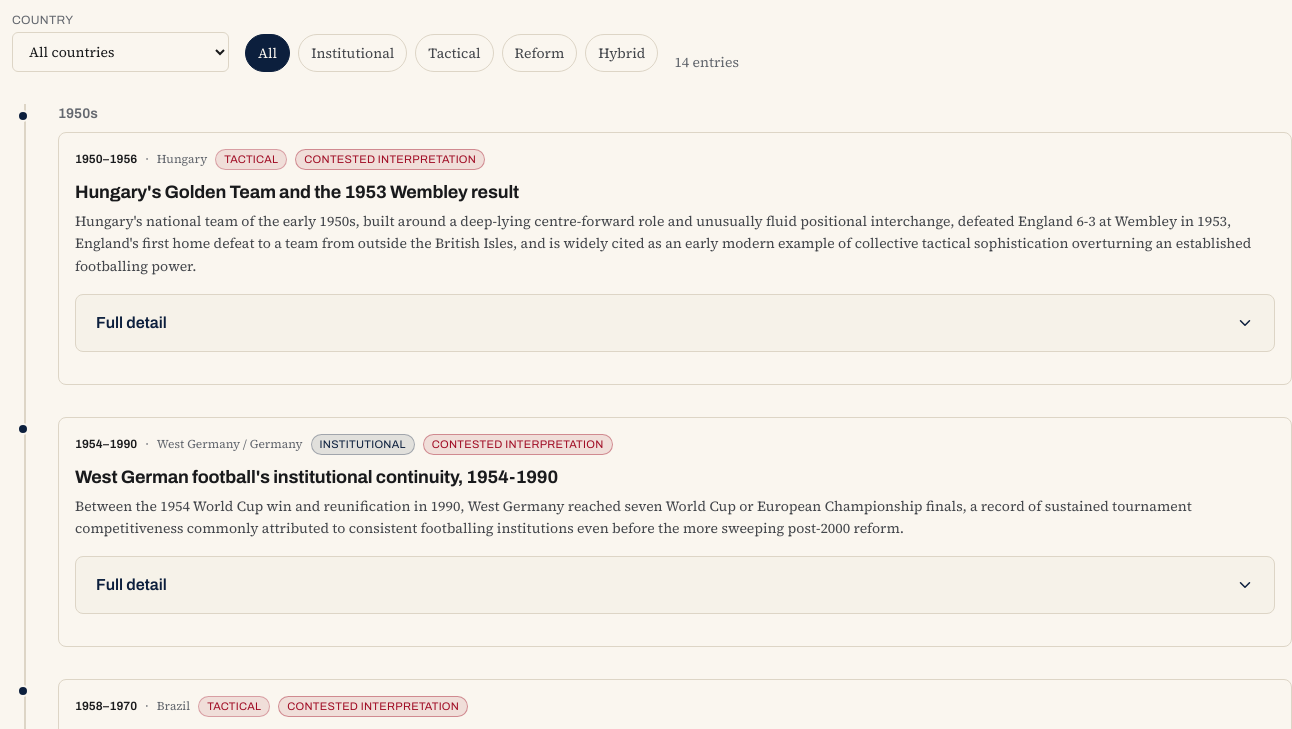
Scenario: Timeline › reduces the rendered entries when filtering by country
This screenshot has width=1292, height=729.
Select "Hungary" in the dropdown labelled "Country" at (120, 52), box [12,32,229,72]
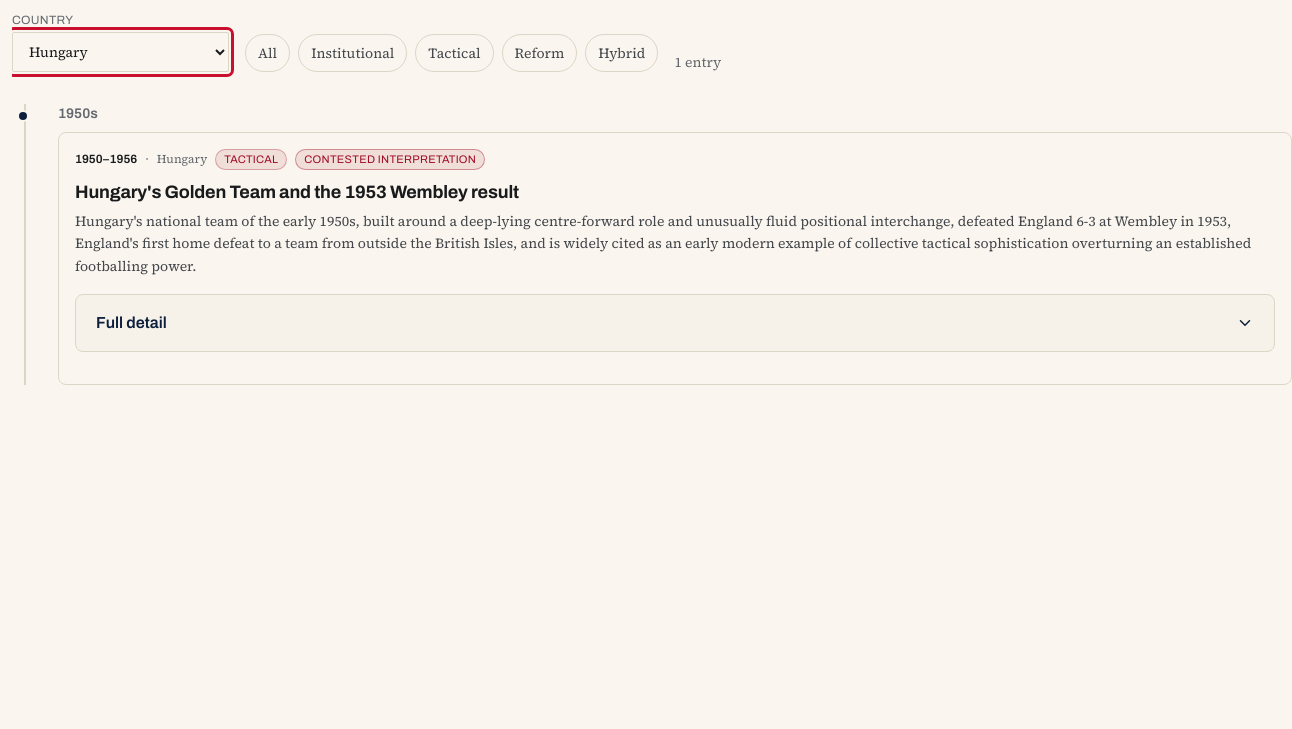
Expected: the number of elements with test id "timeline-entry" is 1, [58,132,1291,385]
